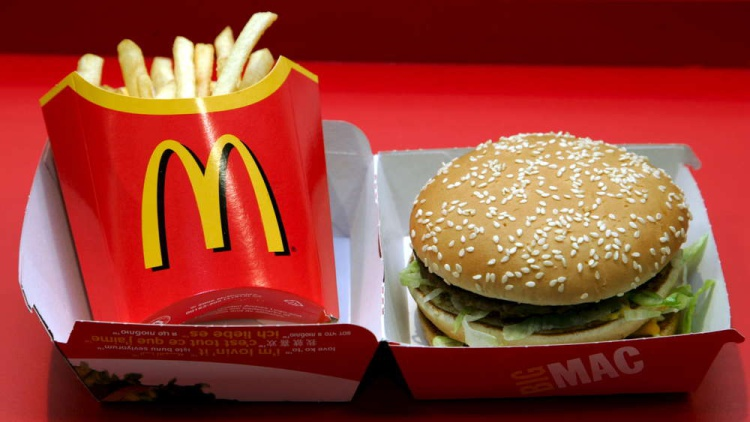mcdonalds: (132, 122, 297, 279)
